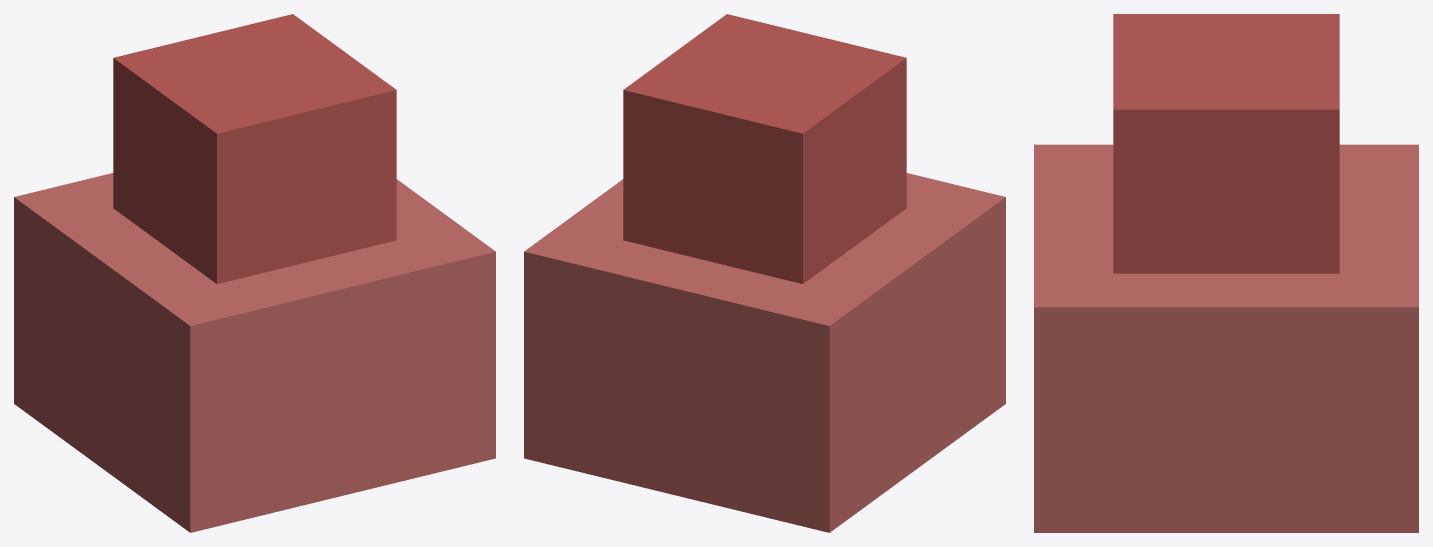
The model's file is fire_hydrant.glb.
3 renders of one model, left to right at view 1: azimuth 30°, elevation 25°; view 2: azimuth 150°, elevation 25°; view 3: azimuth 270°, elevation 25°, orthographic. The views are drawn at different scales.
Visible parts, largest first — view 1: world; view 2: world; view 3: world.
Boxes of the visible parts, <box> form: world: <box>14,14,495,532</box>; world: <box>524,14,1005,532</box>; world: <box>1034,14,1418,532</box>.
Bounding box in the file's own units: 0.34 × 0.38 × 0.34.
